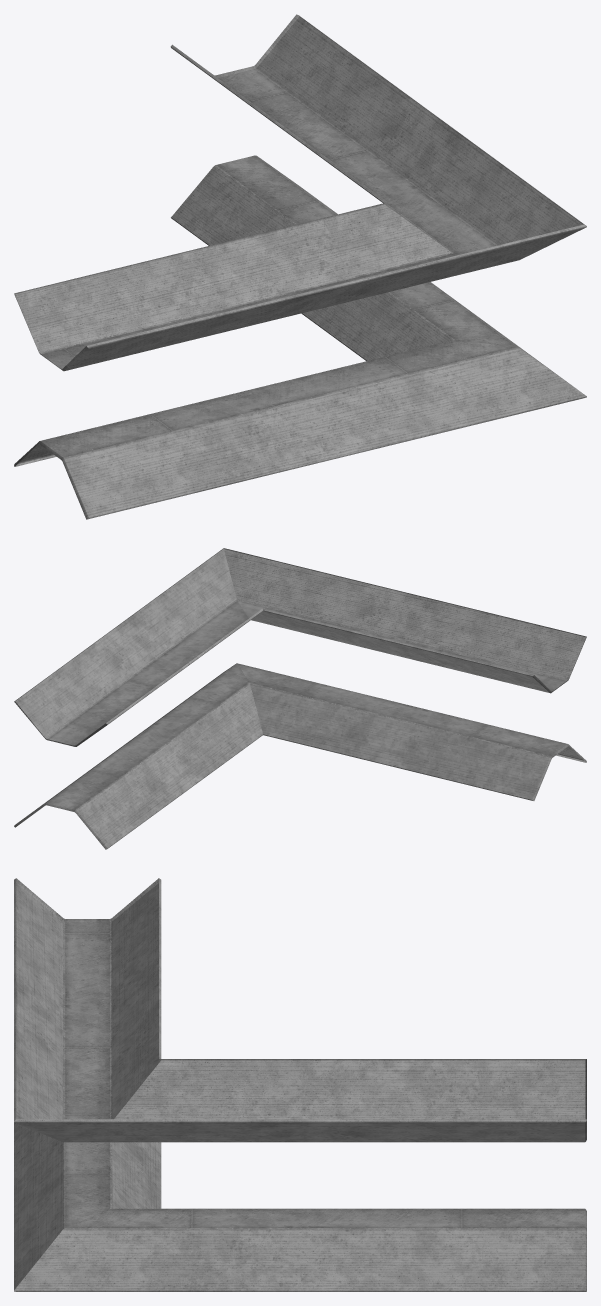
The model's file is SM_Opening_04.fbx.
The picture shows the model from 3 angles, top to bottom: view 1: azimuth 30°, elevation 25°; view 2: azimuth 150°, elevation 25°; view 3: azimuth 270°, elevation 25°; orthographic projection. The views are drawn at different scales.
Visible parts, largest first — view 1: SM_Opening_04; view 2: SM_Opening_04; view 3: SM_Opening_04.
Part boxes in pixels (box(x1,y1,x2,y2)): SM_Opening_04: box(14, 14, 586, 519); SM_Opening_04: box(14, 548, 586, 849); SM_Opening_04: box(14, 878, 586, 1291).
Size of the model in its own units: 402 by 134 by 402.
